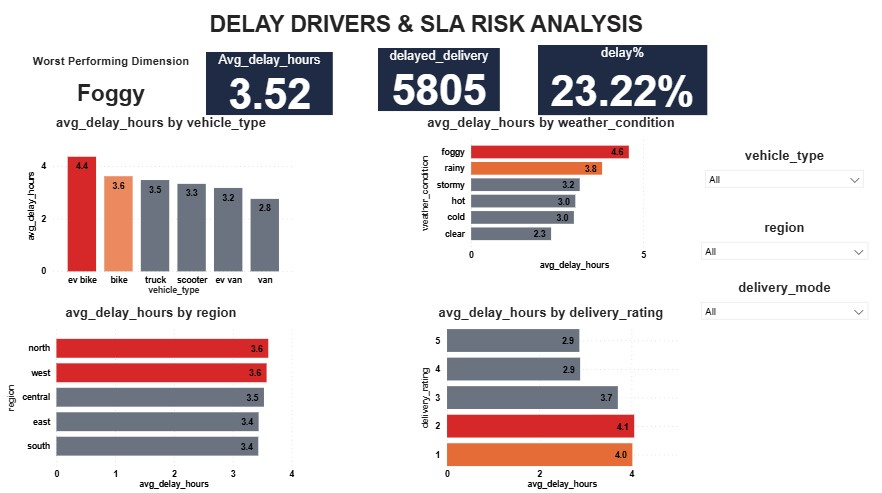

This screenshot's page, from the dashboard's own definition file:
{"tool":"powerbi","page":{"name":"SLA Risk","canvas":[1280,720],"ordinal":1},"visuals":[{"type":"barChart","fields":{"Category":["Delivery_Logistics.weather_condition"],"Y":["Measure.avg_delay_hours"]},"box":[609.9,169.4,375.5,224.5],"z":0},{"type":"columnChart","fields":{"Category":["Delivery_Logistics.vehicle_type"],"Y":["Measure.avg_delay_hours"]},"box":[53.6,169.4,386.8,259.8],"z":1000},{"type":"barChart","fields":{"Category":["Delivery_Logistics.region"],"Y":["Measure.avg_delay_hours"]},"box":[25.4,437.6,415.1,265.4],"z":2000},{"type":"barChart","fields":{"Category":["Delivery_Logistics.delivery_rating"],"Y":["Measure.avg_delay_hours"]},"box":[609.9,437.6,375.5,265.4],"z":3000},{"type":"textbox","box":[310.6,18.4,632.5,52.2],"z":4000},{"type":"slicer","title":"vehicle_type","fields":{"Values":["Delivery_Logistics.vehicle_type"]},"box":[1005.2,216,244.2,70.6],"z":5000},{"type":"slicer","title":"region","fields":{"Values":["Delivery_Logistics.region"]},"box":[999.5,317.6,255.5,70.6],"z":6000},{"type":"slicer","title":"delivery_mode","fields":{"Values":["Delivery_Logistics.delivery_mode"]},"box":[999.5,402.4,255.5,70.6],"z":7000},{"type":"card","title":"Avg_delay_hours","fields":{"Values":["Measure.avg_delay_hours"]},"box":[310.6,80.5,179.3,88.9],"z":8000},{"type":"textbox","box":[53.6,80.5,245.6,83.3],"z":9000},{"type":"card","title":"delayed_delivery","fields":{"Values":["Measure.delayed_delivery"]},"box":[553.4,74.8,172.2,88.9],"z":10000},{"type":"card","title":"delay%","fields":{"Values":["Measure.delay%"]},"box":[779.3,70.6,238.6,98.8],"z":11000}]}

Visuals, with their boxes in screenshot pixels (x1, y1, x2, y2), scaled from the page's 1280x720 canvas onto the 882x493 screenshot:
barChart - Delivery_Logistics.weather_condition x Measure.avg_delay_hours: [420, 116, 679, 270]
columnChart - Delivery_Logistics.vehicle_type x Measure.avg_delay_hours: [37, 116, 303, 294]
barChart - Delivery_Logistics.region x Measure.avg_delay_hours: [18, 300, 304, 481]
barChart - Delivery_Logistics.delivery_rating x Measure.avg_delay_hours: [420, 300, 679, 481]
textbox: [214, 13, 650, 48]
"vehicle_type" slicer: [693, 148, 861, 196]
"region" slicer: [689, 217, 865, 266]
"delivery_mode" slicer: [689, 276, 865, 324]
"Avg_delay_hours" card: [214, 55, 338, 116]
textbox: [37, 55, 206, 112]
"delayed_delivery" card: [381, 51, 500, 112]
"delay%" card: [537, 48, 701, 116]
